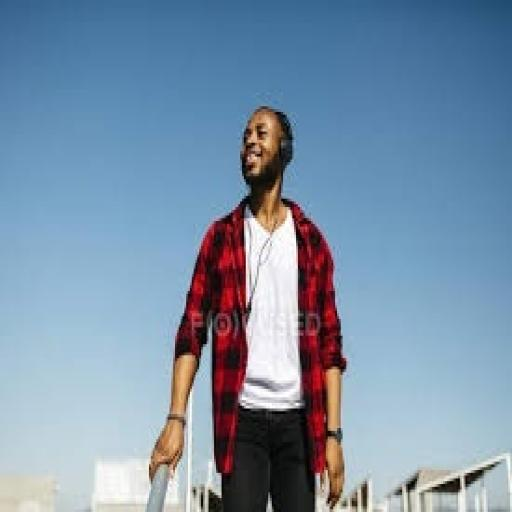listening_to_music: (145, 101, 348, 509)
